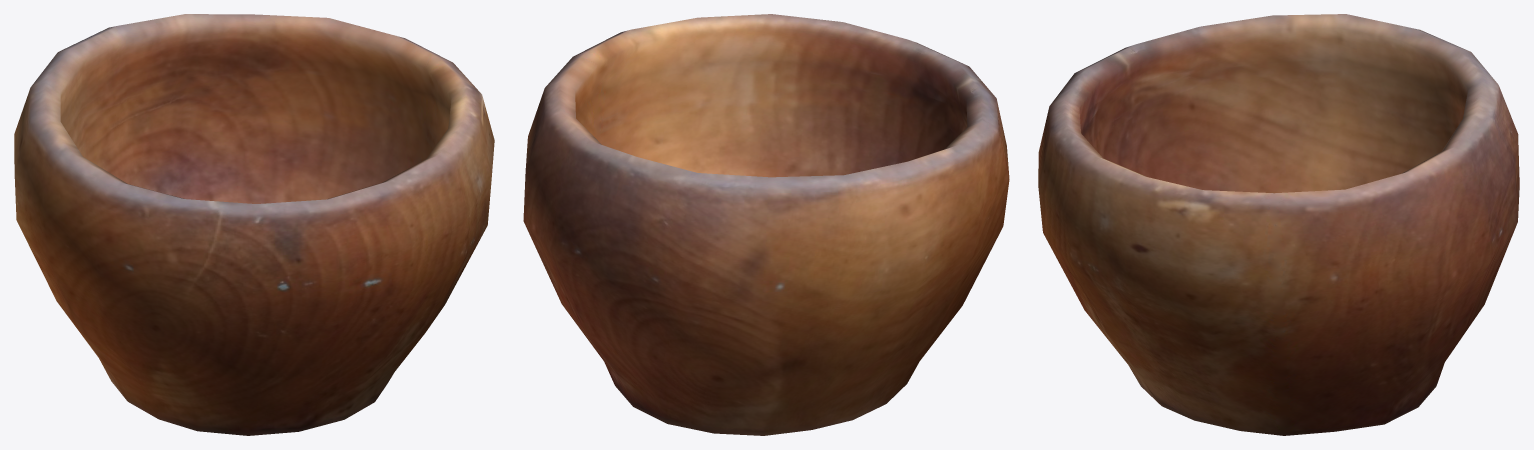
Rendered from mug.obj.
3 renders of one model, left to right at view 1: azimuth 30°, elevation 25°; view 2: azimuth 150°, elevation 25°; view 3: azimuth 270°, elevation 25°, orthographic.
Visible parts, largest first — view 1: mug; view 2: mug; view 3: mug.
Boxes of the visible parts, x1,y1,x2,y2 form: mug: (14, 14, 494, 435); mug: (523, 14, 1009, 435); mug: (1038, 14, 1519, 435).
Bounding box in the file's own units: 11.1 × 7.1 × 10.98.
